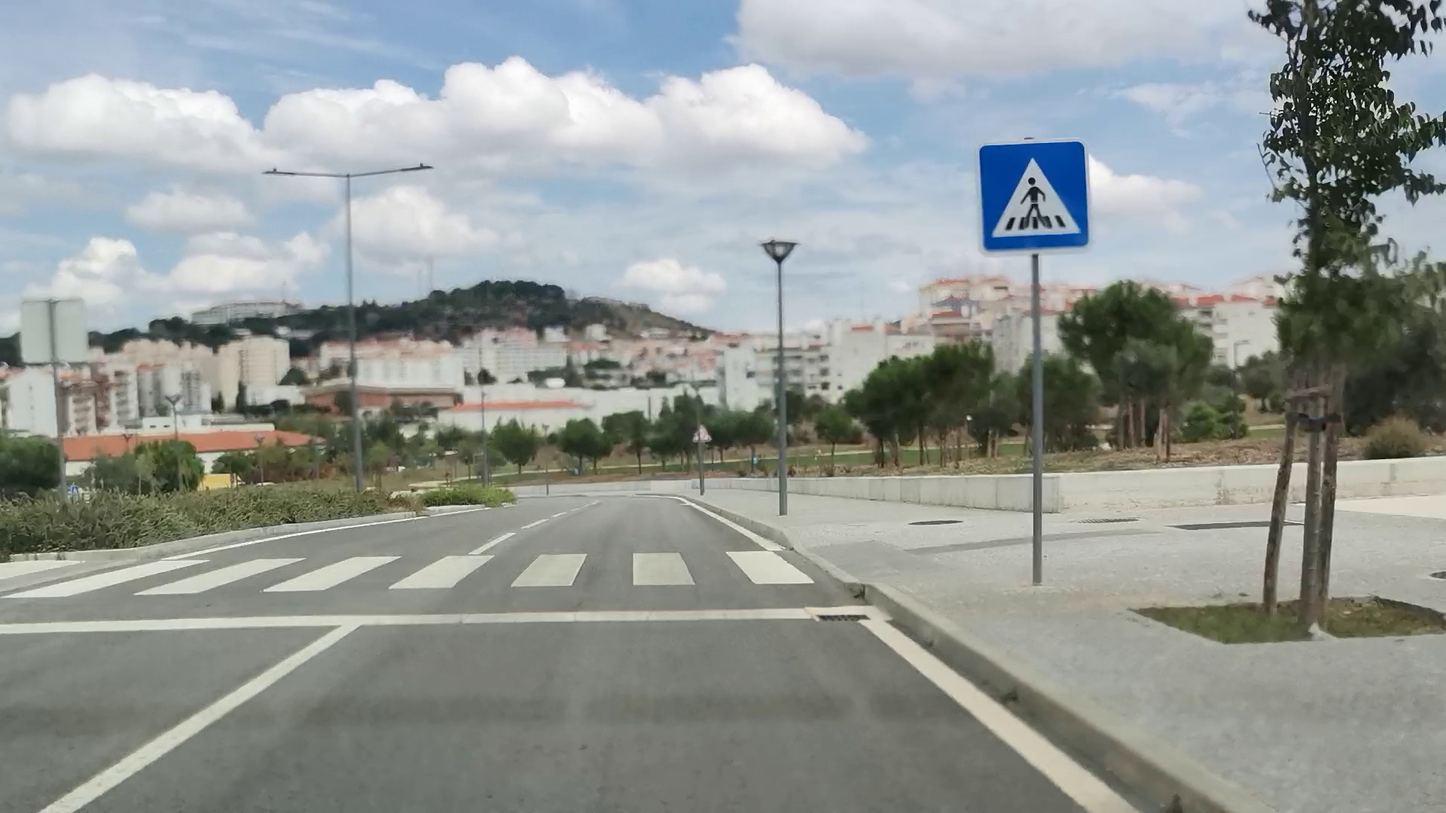Stairs: (0, 547, 822, 598)
